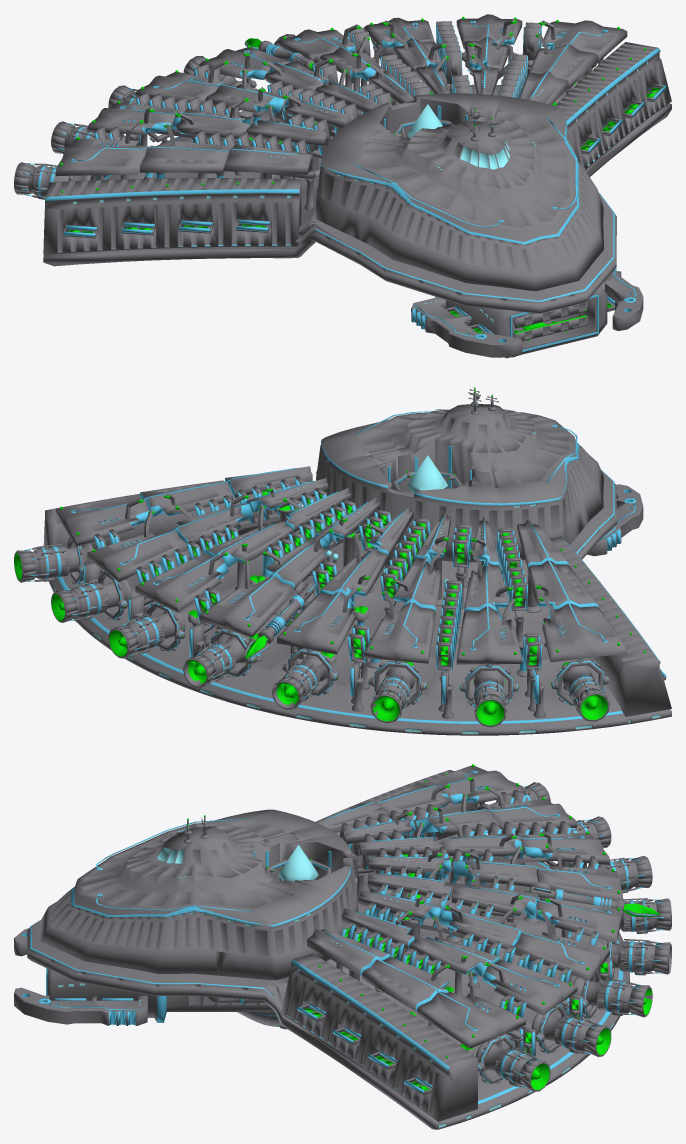
File: ark.glb
3 renders of one model, top to bottom at view 1: azimuth 30°, elevation 25°; view 2: azimuth 150°, elevation 25°; view 3: azimuth 270°, elevation 25°, orthographic.
Parts seen in each view (by area): view 1: mesh; view 2: mesh; view 3: mesh.
Part boxes in pixels (<box>): mesh: <box>14,14,671,358</box>; mesh: <box>14,387,671,735</box>; mesh: <box>14,764,671,1129</box>.
Bounding box in the file's own units: 216 × 70.58 × 196.
